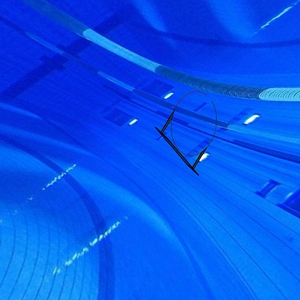circle: (154, 89, 219, 178)
